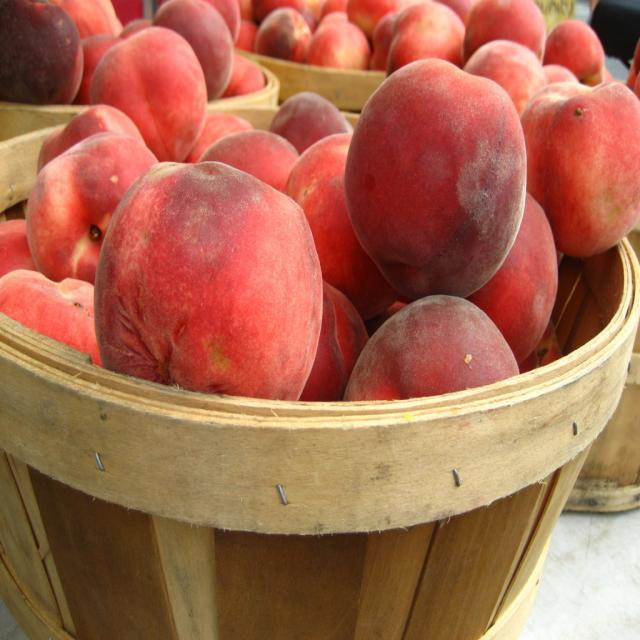Peach: (0, 0, 639, 399), (341, 59, 531, 311)
